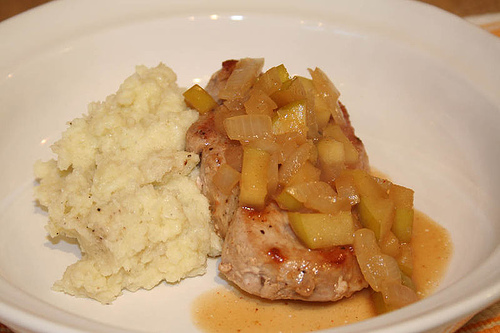cauliflower: (30, 64, 222, 308)
